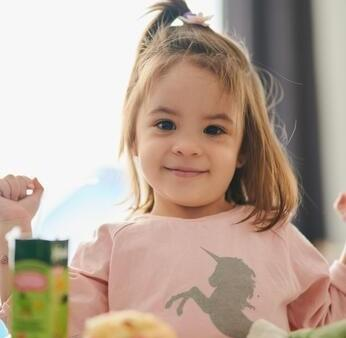Healthy: (117, 28, 271, 229)
